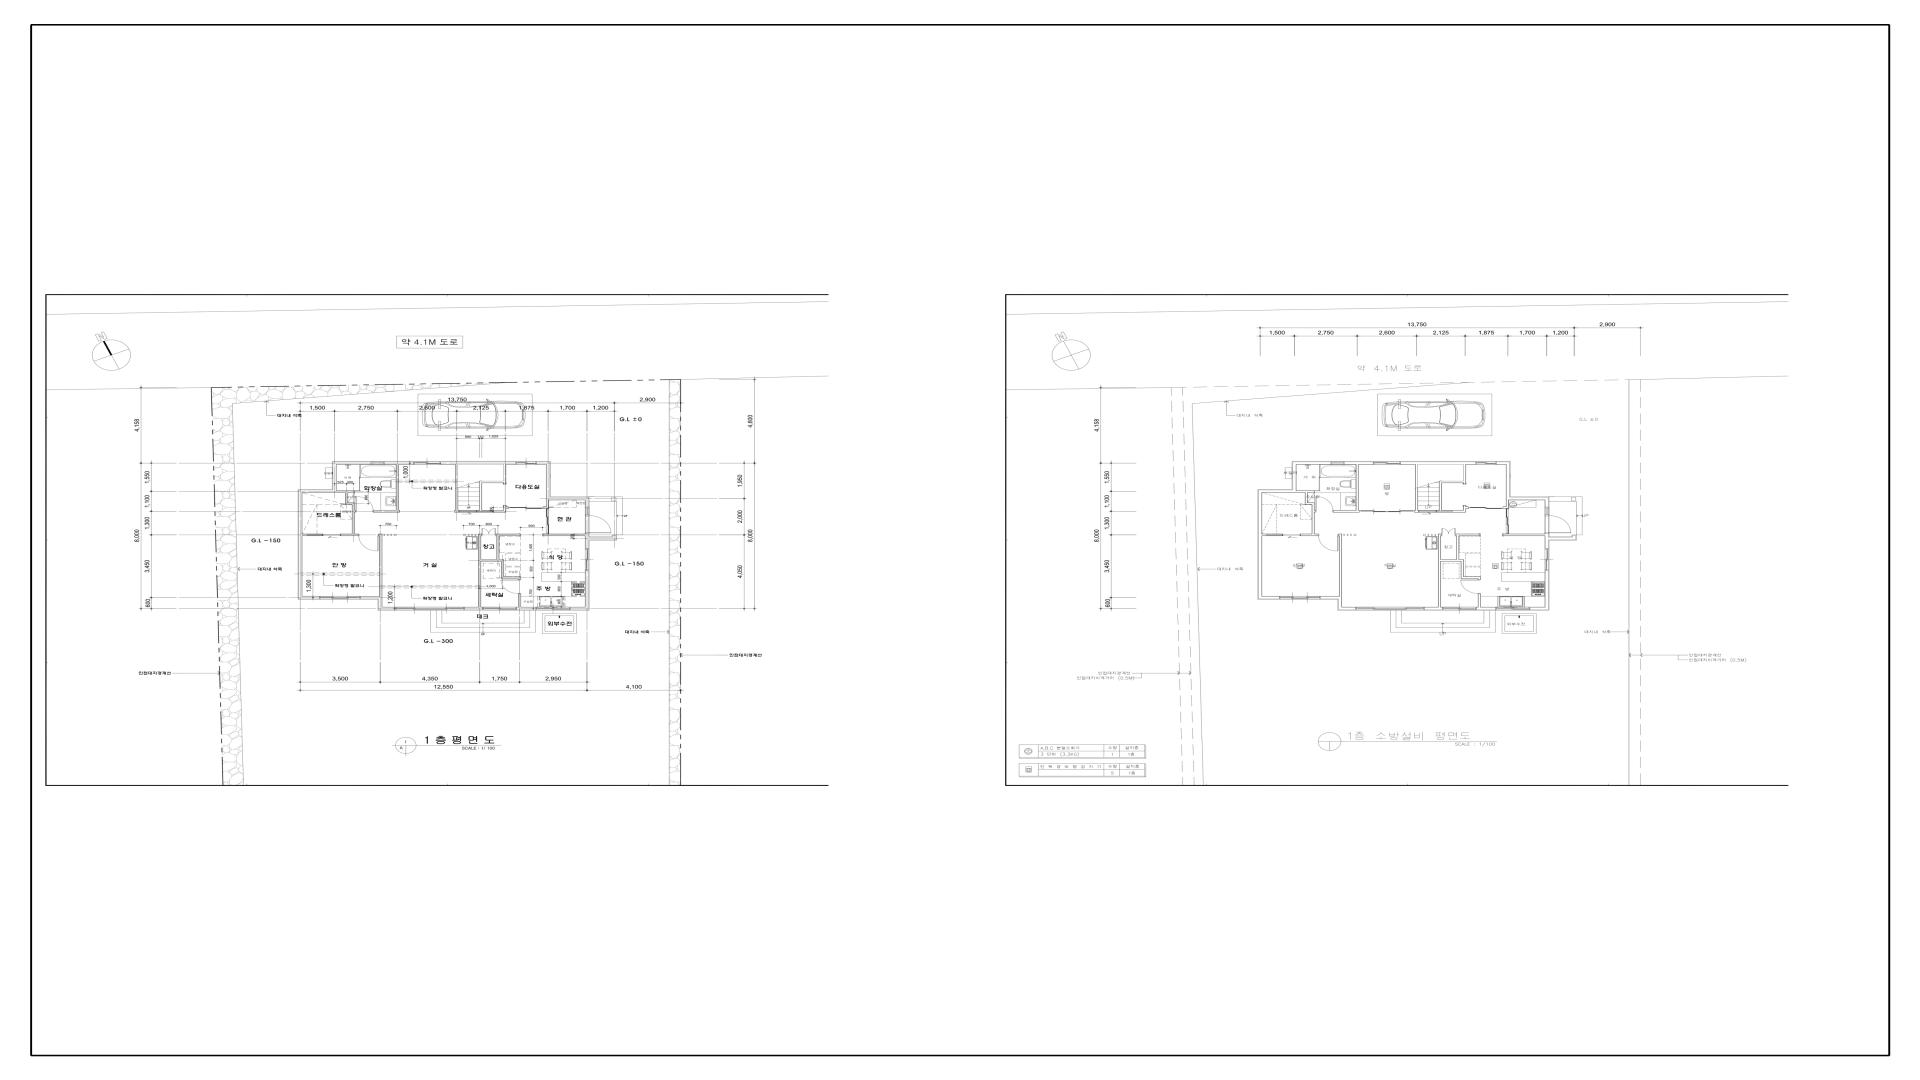door: (585, 508, 612, 533), (1545, 514, 1572, 533), (1319, 534, 1338, 551), (359, 534, 378, 551), (1315, 496, 1333, 513), (355, 496, 373, 513), (1460, 579, 1481, 593), (501, 579, 521, 593), (1360, 510, 1414, 513), (302, 534, 340, 537), (1441, 529, 1456, 535), (481, 529, 496, 535), (1469, 506, 1503, 509), (1419, 510, 1453, 513), (459, 510, 493, 513), (509, 506, 543, 509), (359, 464, 361, 491), (1506, 509, 1509, 534), (546, 509, 549, 534), (1282, 534, 1300, 537), (1319, 464, 1320, 491)
wall: (537, 462, 589, 508), (1497, 462, 1548, 506), (298, 462, 371, 493), (1258, 491, 1279, 599), (298, 493, 319, 599), (1262, 462, 1331, 493), (373, 464, 400, 513), (1333, 464, 1360, 513), (479, 464, 506, 510), (1296, 491, 1319, 537), (1441, 559, 1481, 579), (570, 571, 589, 611), (481, 559, 521, 579), (1530, 570, 1548, 609), (1439, 481, 1464, 510), (1456, 534, 1480, 559), (496, 534, 520, 559), (340, 505, 359, 535), (360, 596, 396, 611), (585, 533, 617, 549), (1320, 596, 1356, 609), (336, 491, 355, 505), (454, 464, 459, 513), (1414, 464, 1419, 513), (378, 534, 382, 596), (1338, 534, 1342, 596), (1400, 462, 1476, 464), (440, 462, 516, 464), (1439, 534, 1441, 607), (479, 534, 481, 607), (1549, 535, 1577, 541), (493, 505, 509, 513), (1453, 505, 1469, 513), (1344, 462, 1374, 464), (385, 462, 414, 464), (464, 607, 483, 611), (1545, 533, 1549, 549), (1503, 534, 1545, 535), (543, 534, 585, 535), (517, 607, 537, 609), (1464, 464, 1466, 484), (1424, 607, 1443, 609), (1477, 607, 1495, 609), (1503, 500, 1509, 509), (543, 500, 549, 509), (1478, 593, 1481, 607), (518, 593, 521, 607), (1262, 534, 1283, 535), (1545, 506, 1548, 514), (355, 491, 360, 492), (1315, 491, 1320, 491)
window: (396, 607, 464, 611), (1356, 607, 1424, 609), (537, 607, 570, 611), (1279, 596, 1320, 599), (319, 596, 360, 599), (483, 607, 517, 609), (1495, 607, 1530, 609), (1443, 607, 1477, 609), (585, 549, 589, 571), (1545, 549, 1549, 571), (414, 462, 440, 464), (1374, 462, 1400, 464), (516, 462, 537, 464), (1476, 462, 1497, 464), (371, 462, 385, 464), (1331, 462, 1345, 464)
